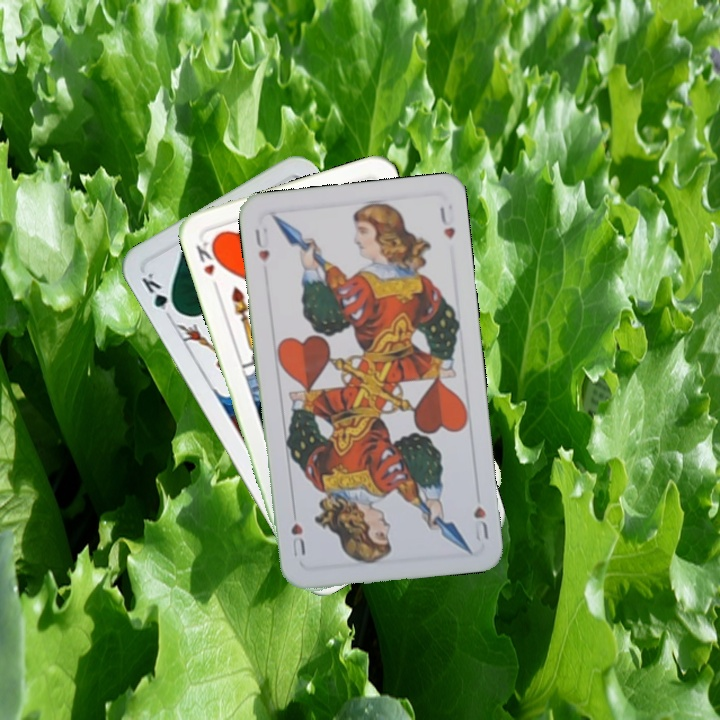GK: (137, 267, 181, 323)
HK: (192, 234, 224, 279)
HU: (469, 502, 491, 544), (251, 223, 272, 265)
